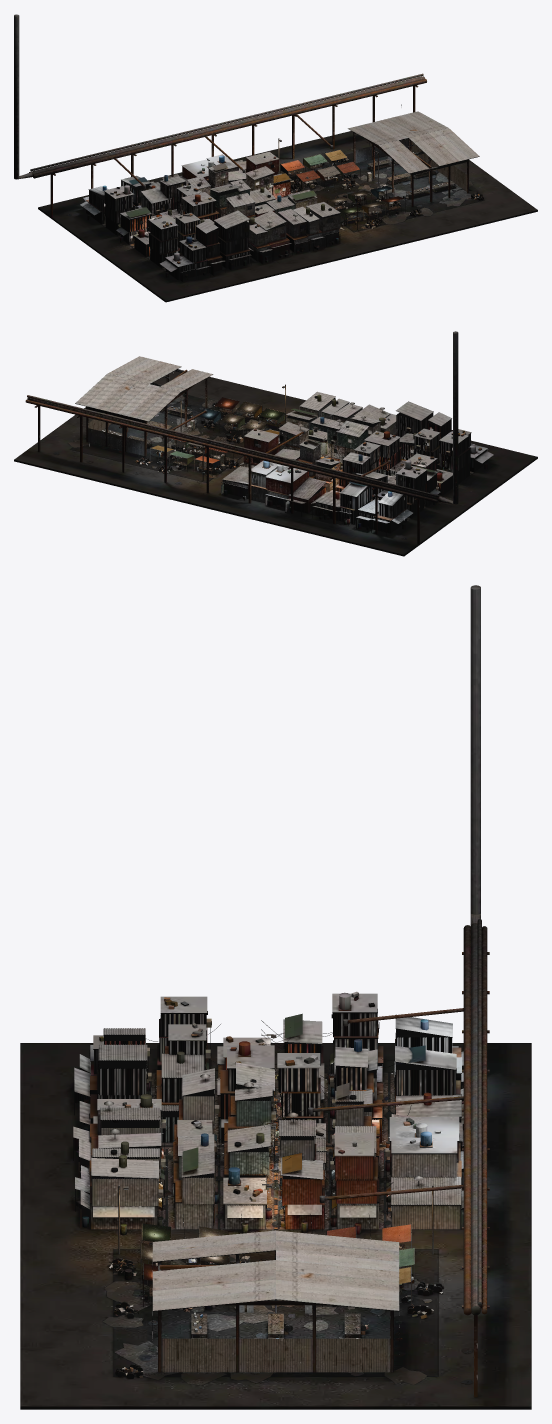
File: lower_quarter_low.glb
3 renders of one model, top to bottom at view 1: azimuth 30°, elevation 25°; view 2: azimuth 150°, elevation 25°; view 3: azimuth 270°, elevation 25°, orthographic. The views are drawn at different scales.
Parts seen in each view (by area): view 1: site_ground, props_shacks_a, props_shacks_b, props_pipes, props_market, props_stalls, props_alleys, props_goods; view 2: site_ground, props_shacks_a, props_shacks_b, props_pipes, props_market, props_stalls, props_alleys, props_goods; view 3: site_ground, props_shacks_b, props_shacks_a, props_market, props_pipes, props_alleys, props_stalls, props_goods.
Boxes of the visible parts, <box> form: site_ground: <box>38,131,537,302</box>; props_shacks_a: <box>80,175,253,281</box>; props_shacks_b: <box>161,151,344,263</box>; props_pipes: <box>14,14,448,217</box>; props_market: <box>348,111,479,206</box>; props_stalls: <box>280,149,405,226</box>; props_alleys: <box>87,147,476,280</box>; props_goods: <box>288,152,483,228</box>; site_ground: <box>14,371,537,556</box>; props_shacks_a: <box>311,401,493,535</box>; props_shacks_b: <box>221,391,397,516</box>; props_pipes: <box>25,331,458,544</box>; props_market: <box>75,356,213,456</box>; props_stalls: <box>150,397,285,476</box>; props_alleys: <box>68,395,487,529</box>; props_goods: <box>102,402,282,473</box>; site_ground: <box>20,1043,531,1409</box>; props_shacks_b: <box>73,1062,463,1229</box>; props_shacks_a: <box>74,991,463,1142</box>; props_market: <box>152,1230,399,1372</box>; props_pipes: <box>147,585,489,1397</box>; props_alleys: <box>76,1020,463,1385</box>; props_stalls: <box>140,1223,414,1309</box>; props_goods: <box>107,1245,444,1378</box>.
Size of the model in its own units: 81.45 by 40.3 by 44.
Materials: 9 (9 with a texture image).
